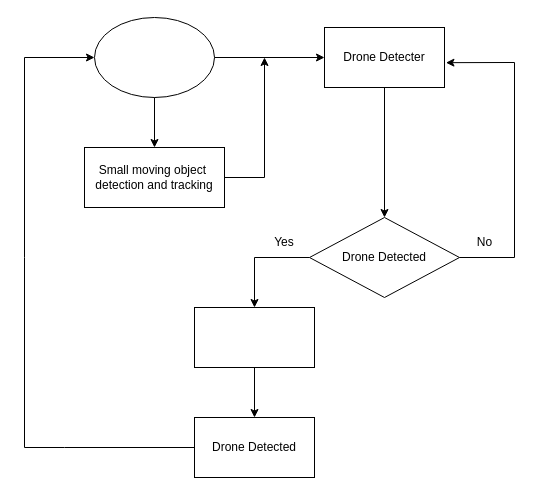
Image size: 540x495. Some labels were removed from this diagram. The shapes that lost their labels are listed below. From the top down, each one's centre as x and y in pixels, then its label:
At point 154,57: "Start".
At point 254,337: "Alert".
